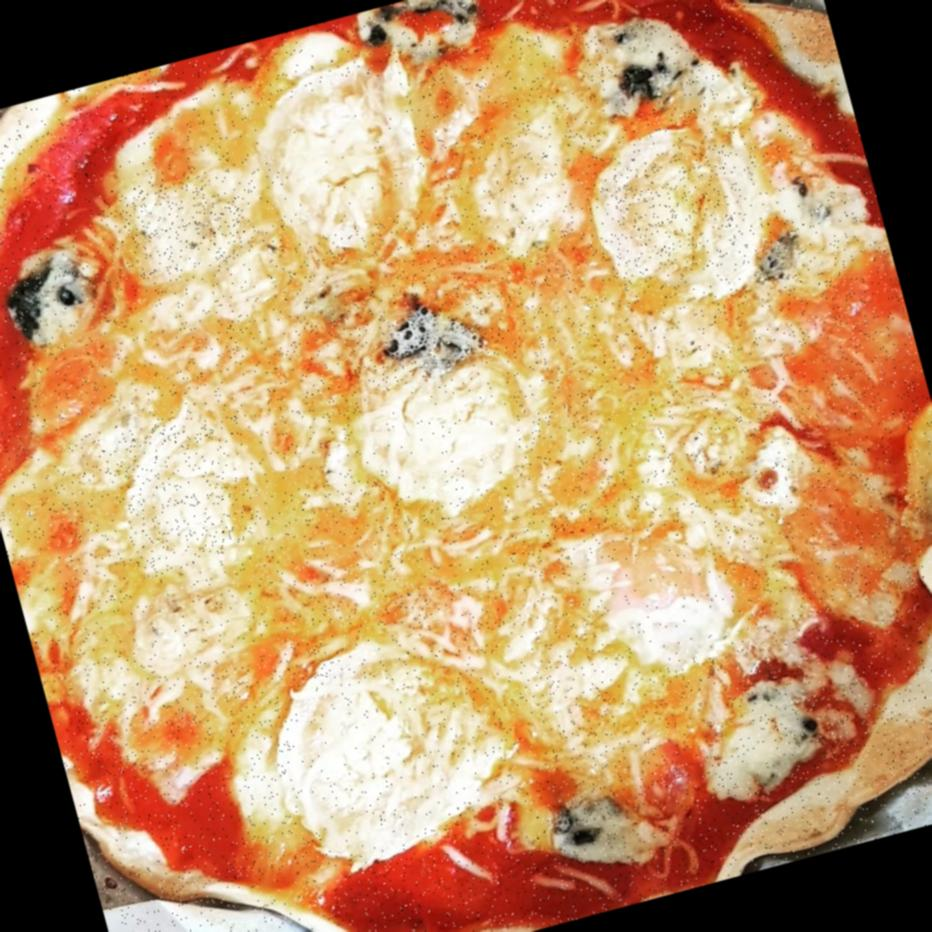Cheese: (279, 653, 499, 850), (262, 70, 430, 241), (577, 512, 748, 680), (594, 138, 764, 300), (104, 409, 248, 578), (360, 360, 526, 504), (119, 164, 255, 280), (128, 576, 262, 679)
Pizza: (0, 0, 932, 932)
